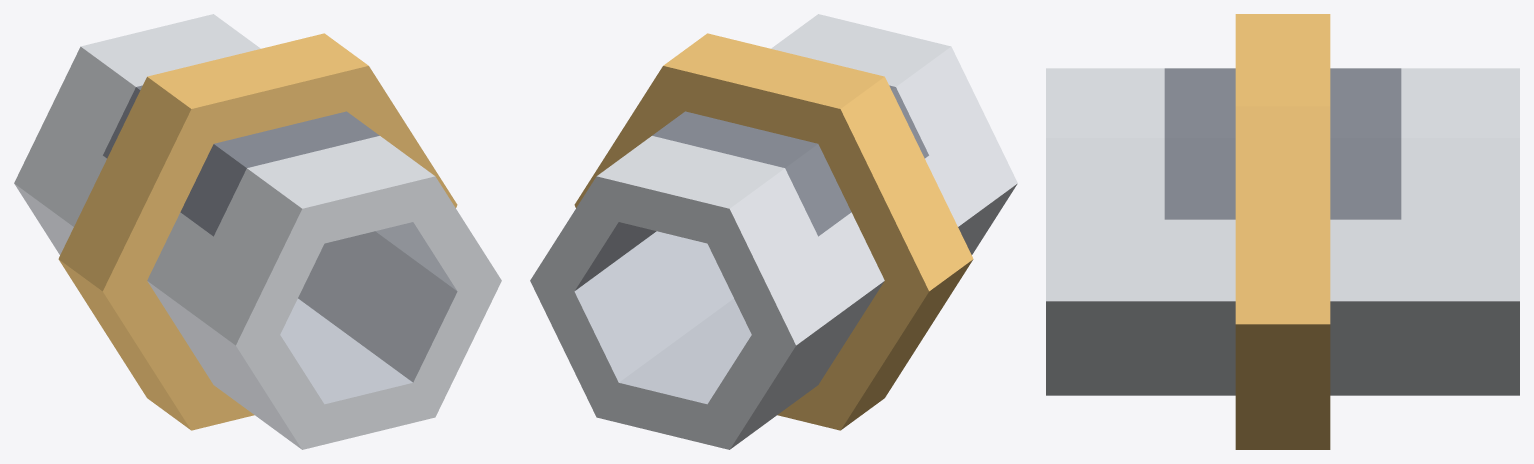
The model's file is pipe_ring.glb.
The picture shows the model from 3 angles, left to right: view 1: azimuth 30°, elevation 25°; view 2: azimuth 150°, elevation 25°; view 3: azimuth 270°, elevation 25°; orthographic projection. The views are drawn at different scales.
Parts seen in each view (by area): view 1: pipe_ring; view 2: pipe_ring; view 3: pipe_ring.
Part boxes in pixels (bbox=[...]): pipe_ring: bbox=[14, 14, 501, 449]; pipe_ring: bbox=[530, 14, 1017, 449]; pipe_ring: bbox=[1046, 14, 1519, 449].
Size of the model in its own units: 0.9238 by 0.8 by 1.
Materials: 1 (1 with a texture image).
